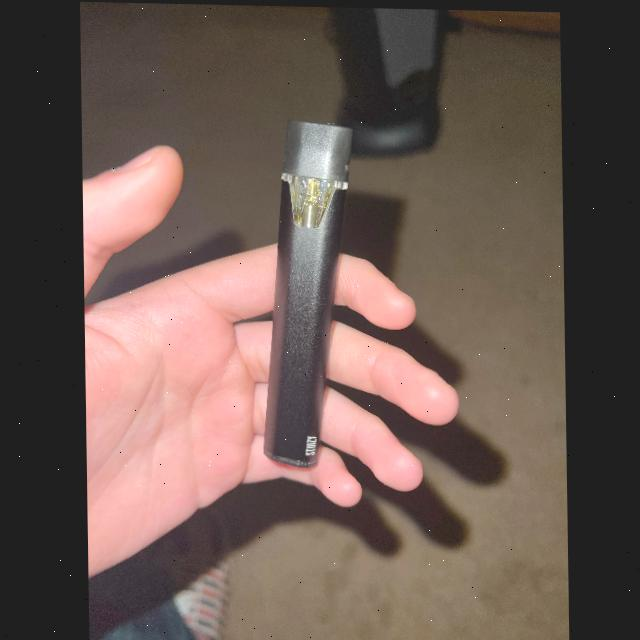vape: (256, 113, 360, 472)
